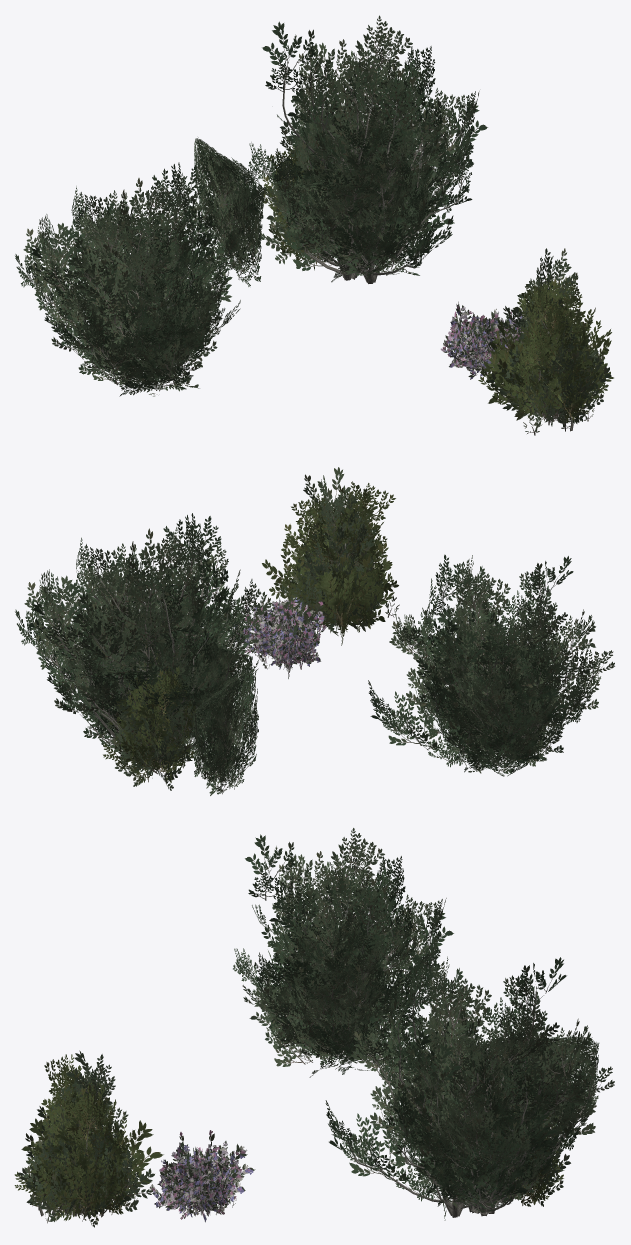
The model's file is veg.shrubs.glb.
3 renders of one model, top to bottom at view 1: azimuth 30°, elevation 25°; view 2: azimuth 150°, elevation 25°; view 3: azimuth 270°, elevation 25°, orthographic. The views are drawn at different scales.
Visible parts, largest first — view 1: shrub.natural.big.2:lod0, shrub.natural.big.5:lod0, shrub.natural.big.1:lod0, shrub.natural.big.4:lod0, shrub.natural.big.3:lod0, shrub.hedge.1:lod0, shrub.hedge.2:lod0, shrub.natural.medium.5:lod0, shrub.natural.medium.2:lod0, shrub.natural.medium.3:lod0, shrub.natural.medium.1:lod0, shrub.natural.medium.4:lod0 (+10 smaller); view 2: shrub.natural.big.1:lod0, shrub.natural.big.5:lod0, shrub.natural.big.4:lod0, shrub.natural.big.2:lod0, shrub.natural.big.3:lod0, shrub.hedge.2:lod0, shrub.natural.medium.5:lod0, shrub.hedge.1:lod0, shrub.natural.medium.2:lod0, shrub.natural.medium.3:lod0, shrub.natural.small.3:lod0, shrub.natural.medium.4:lod0 (+10 smaller); view 3: shrub.natural.big.2:lod0, shrub.natural.big.5:lod0, shrub.natural.big.1:lod0, shrub.natural.big.4:lod0, shrub.natural.big.3:lod0, shrub.natural.medium.5:lod0, shrub.flowering.2:lod0, shrub.hedge.2:lod0, shrub.natural.small.3:lod0, shrub.natural.medium.2:lod0, shrub.hedge.1:lod0, shrub.globe.2:lod0 (+11 smaller).
Boxes of the visible parts, x1=… form: shrub.natural.big.2:lod0: x1=71, y1=21, x2=472, y2=385; shrub.natural.big.5:lod0: x1=31, y1=15, x2=461, y2=390; shrub.natural.big.1:lod0: x1=23, y1=32, x2=479, y2=391; shrub.natural.big.4:lod0: x1=15, y1=46, x2=487, y2=396; shrub.natural.big.3:lod0: x1=34, y1=59, x2=460, y2=396; shrub.hedge.1:lod0: x1=194, y1=110, x2=448, y2=286; shrub.hedge.2:lod0: x1=194, y1=115, x2=447, y2=280; shrub.natural.medium.5:lod0: x1=261, y1=138, x2=611, y2=421; shrub.natural.medium.2:lod0: x1=274, y1=121, x2=603, y2=421; shrub.natural.medium.3:lod0: x1=275, y1=137, x2=592, y2=421; shrub.natural.medium.1:lod0: x1=285, y1=140, x2=604, y2=431; shrub.natural.medium.4:lod0: x1=260, y1=161, x2=611, y2=417; shrub.natural.big.1:lod0: x1=24, y1=522, x2=595, y2=773; shrub.natural.big.5:lod0: x1=32, y1=527, x2=595, y2=763; shrub.natural.big.4:lod0: x1=15, y1=513, x2=584, y2=776; shrub.natural.big.2:lod0: x1=75, y1=515, x2=573, y2=773; shrub.natural.big.3:lod0: x1=35, y1=561, x2=614, y2=769; shrub.hedge.2:lod0: x1=44, y1=623, x2=258, y2=794; shrub.natural.medium.5:lod0: x1=117, y1=487, x2=394, y2=783; shrub.hedge.1:lod0: x1=47, y1=622, x2=257, y2=795; shrub.natural.medium.2:lod0: x1=114, y1=467, x2=377, y2=786; shrub.natural.medium.3:lod0: x1=121, y1=481, x2=395, y2=785; shrub.natural.small.3:lod0: x1=262, y1=540, x2=392, y2=632; shrub.natural.medium.4:lod0: x1=110, y1=497, x2=375, y2=790; shrub.natural.big.2:lod0: x1=233, y1=834, x2=566, y2=1217; shrub.natural.big.5:lod0: x1=242, y1=828, x2=590, y2=1216; shrub.natural.big.1:lod0: x1=270, y1=843, x2=592, y2=1212; shrub.natural.big.4:lod0: x1=252, y1=856, x2=578, y2=1213; shrub.natural.big.3:lod0: x1=249, y1=868, x2=614, y2=1213; shrub.natural.medium.5:lod0: x1=27, y1=1065, x2=567, y2=1217; shrub.flowering.2:lod0: x1=157, y1=1130, x2=255, y2=1222; shrub.hedge.2:lod0: x1=437, y1=1039, x2=597, y2=1212; shrub.natural.small.3:lod0: x1=33, y1=1108, x2=163, y2=1224; shrub.natural.medium.2:lod0: x1=26, y1=1047, x2=563, y2=1221; shrub.hedge.1:lod0: x1=439, y1=1037, x2=599, y2=1220; shrub.globe.2:lod0: x1=422, y1=1067, x2=577, y2=1206.
Size of what is drawn, in the model's own units: 3.87 by 1.68 by 3.72.
Materials: 2 (2 with a texture image).
